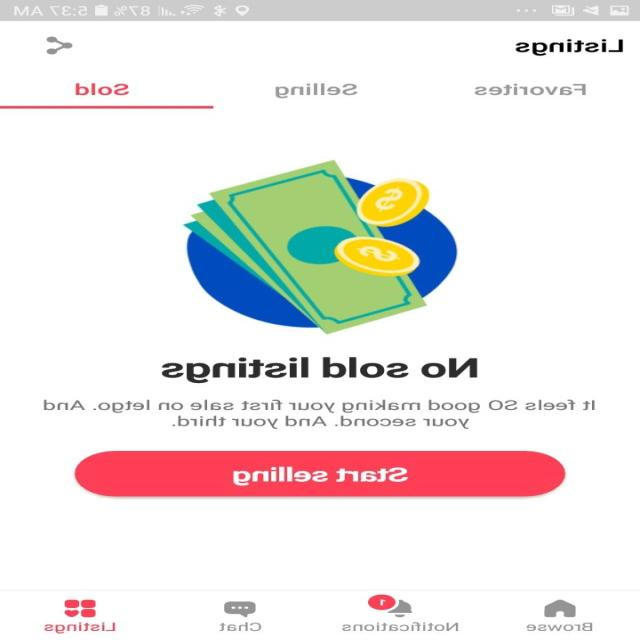Icon: (368, 593, 413, 617), (544, 598, 577, 617), (64, 599, 98, 617), (224, 600, 257, 618), (46, 36, 74, 55)
Image: (183, 160, 459, 334)
Text: (43, 398, 596, 429), (162, 356, 478, 384), (516, 38, 624, 56), (276, 82, 358, 99), (474, 83, 586, 95), (342, 621, 459, 631), (45, 621, 116, 634), (76, 82, 130, 96), (526, 621, 593, 631), (220, 621, 262, 631)
TextButton: (74, 451, 566, 496)
